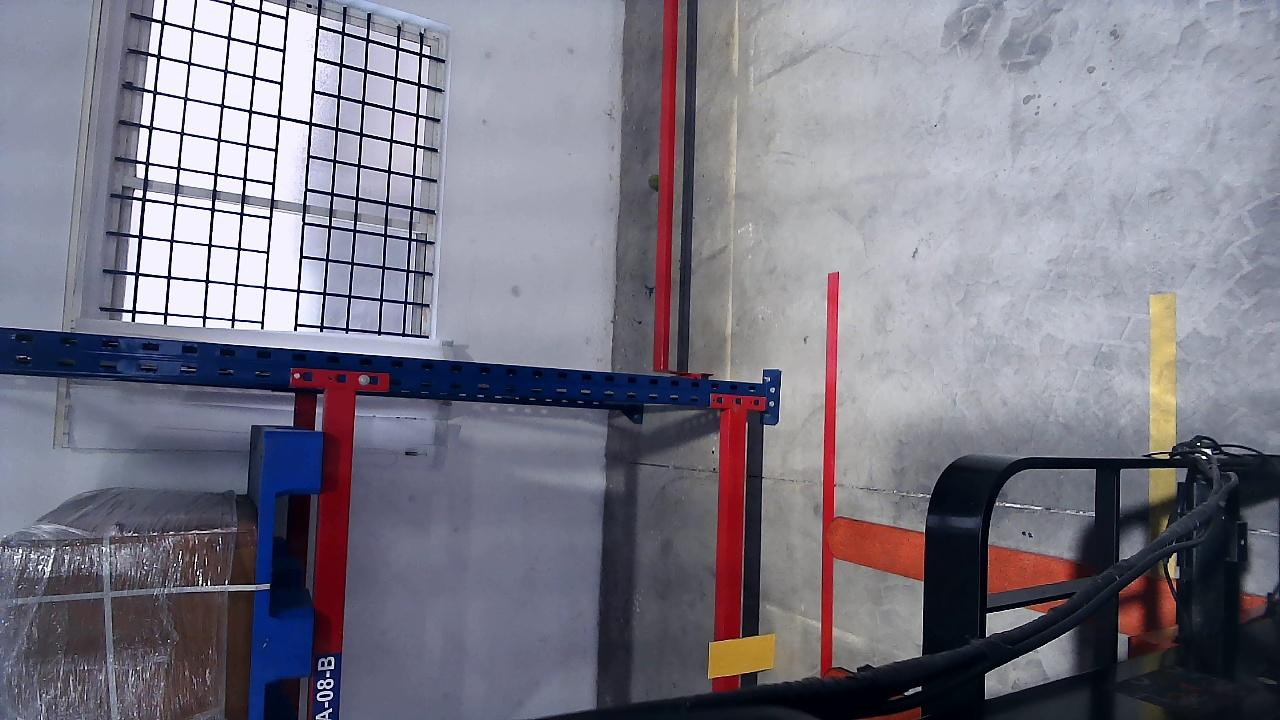h_rack: (322, 393, 341, 714), (720, 413, 742, 690)
orange_strip: (710, 641, 772, 669)
red_line: (826, 273, 834, 677)
small_pallet: (255, 432, 317, 720)
yellow_line: (1147, 293, 1178, 453)
